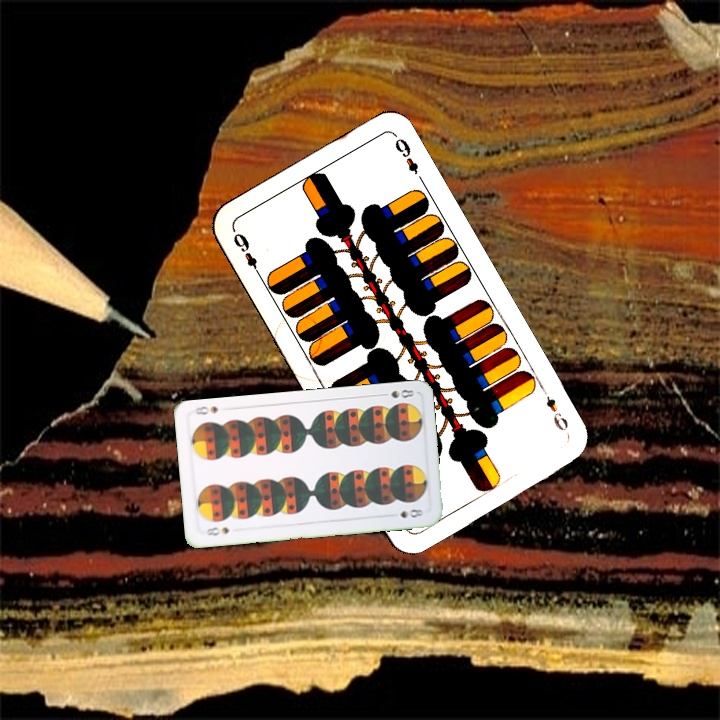E9: (229, 228, 264, 280), (541, 392, 571, 434)
S8: (376, 385, 417, 401), (199, 523, 232, 538)
